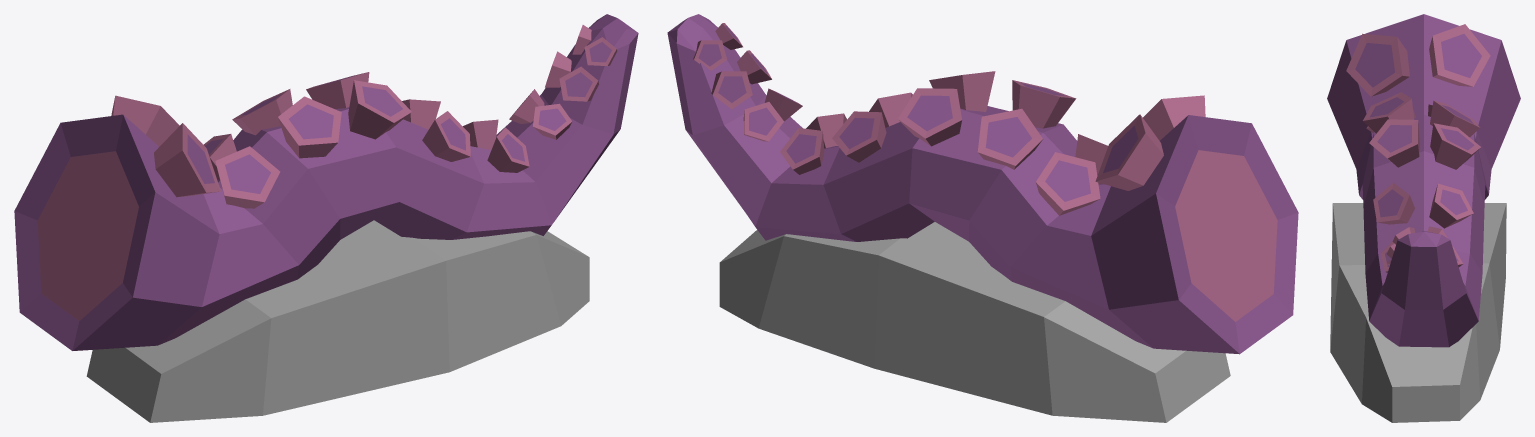
Rendered from Sushi_NigiriOctopus.glb.
The picture shows the model from 3 angles, left to right: view 1: azimuth 30°, elevation 25°; view 2: azimuth 150°, elevation 25°; view 3: azimuth 270°, elevation 25°; orthographic projection. The views are drawn at different scales.
Visible parts, largest first — view 1: PalePink2, White, PalePink; view 2: PalePink2, White, PalePink; view 3: PalePink2, White, PalePink.
Boxes of the visible parts, x1,y1,x2,y2 form: PalePink2: (14,14,638,350); White: (86,220,589,422); PalePink: (37,25,617,321); PalePink2: (667,14,1298,354); White: (719,222,1230,422); PalePink: (693,23,1277,321); PalePink2: (1327,14,1520,347); White: (1330,203,1506,422); PalePink: (1346,24,1490,272).
Bounding box in the file's own units: 0.762 × 0.3505 × 0.2673.
